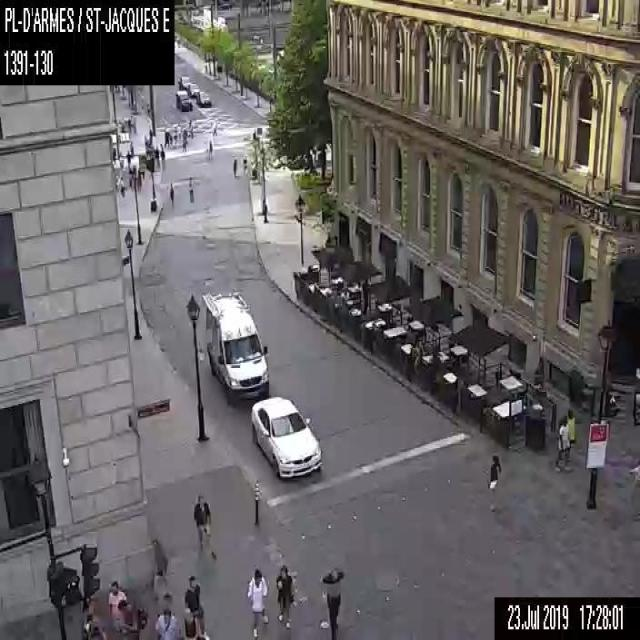pedestrian: (318, 565, 345, 639), (182, 573, 209, 639), (246, 565, 269, 639), (192, 492, 216, 559), (150, 538, 172, 600), (116, 595, 147, 639), (274, 561, 294, 628), (486, 450, 502, 510), (107, 580, 125, 629), (154, 607, 178, 639), (83, 604, 105, 638), (556, 416, 569, 469), (565, 408, 575, 443), (187, 176, 194, 204), (164, 128, 172, 149), (168, 180, 174, 207), (181, 126, 187, 150), (207, 138, 213, 162), (242, 153, 248, 174), (125, 149, 132, 167), (120, 176, 126, 196), (232, 156, 237, 177), (212, 120, 218, 135), (160, 145, 164, 167), (173, 124, 177, 145)
vehicle: (200, 290, 268, 403), (251, 395, 321, 477), (174, 89, 192, 111), (195, 90, 211, 107), (186, 82, 199, 96), (177, 75, 190, 89)
